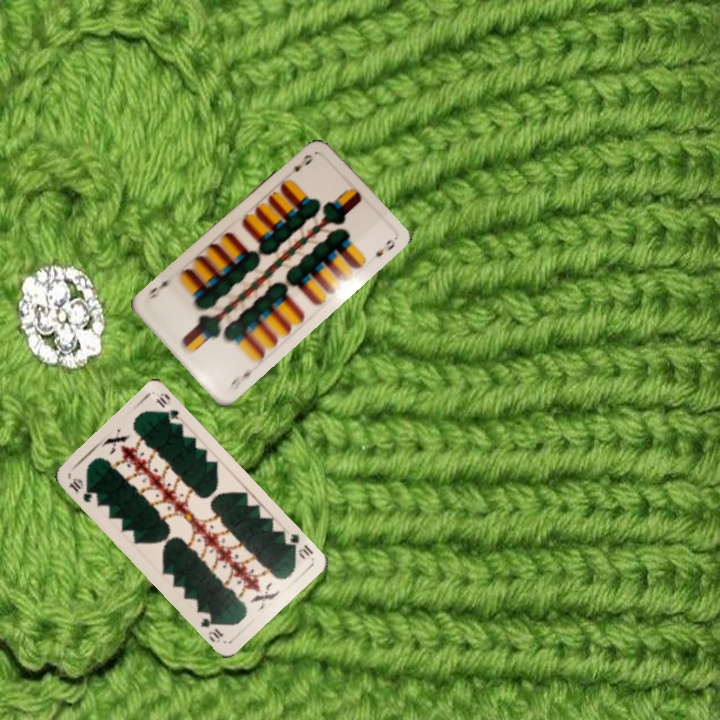E9: (225, 365, 258, 394), (290, 150, 316, 175)
G10: (65, 474, 101, 505), (284, 529, 316, 562)
